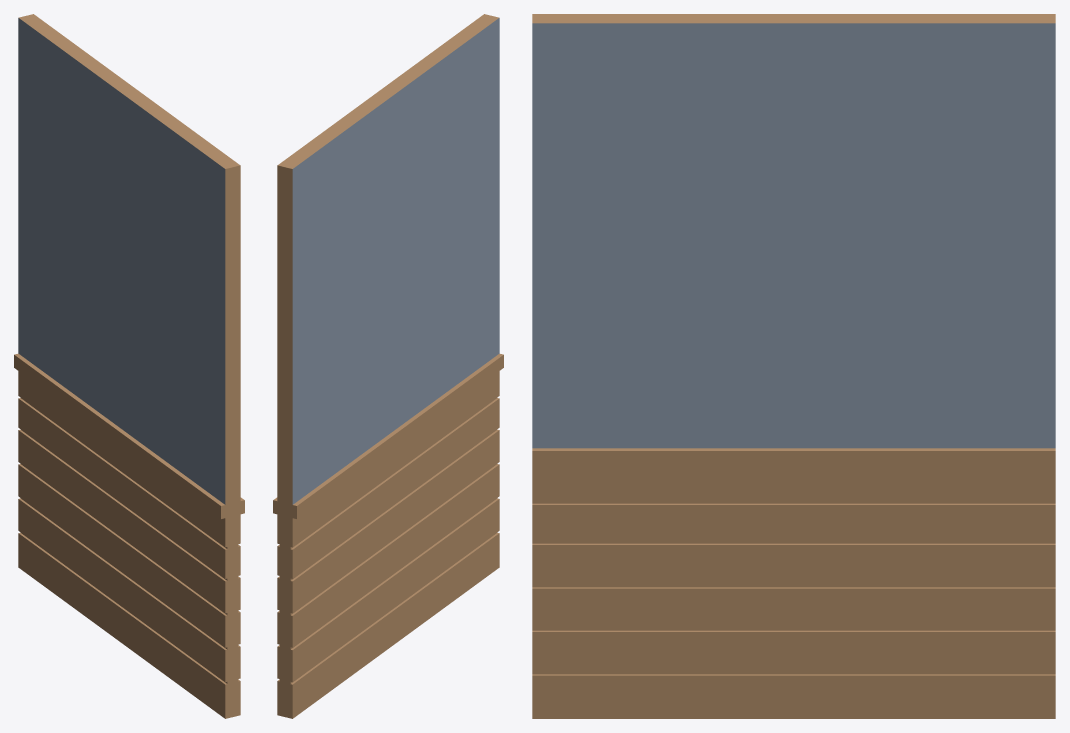
The model's file is Int_ Small Wall-col.glb.
The picture shows the model from 3 angles, left to right: view 1: azimuth 30°, elevation 25°; view 2: azimuth 150°, elevation 25°; view 3: azimuth 270°, elevation 25°; orthographic projection. The views are drawn at different scales.
Parts seen in each view (by area): view 1: Int_ Small Wall-col; view 2: Int_ Small Wall-col; view 3: Int_ Small Wall-col.
Part boxes in pixels (x1,y1,x2,y2): Int_ Small Wall-col: (14, 14, 244, 718); Int_ Small Wall-col: (273, 14, 503, 718); Int_ Small Wall-col: (532, 14, 1055, 718).
Size of the model in its own units: 0.1 by 2.2 by 1.5.
